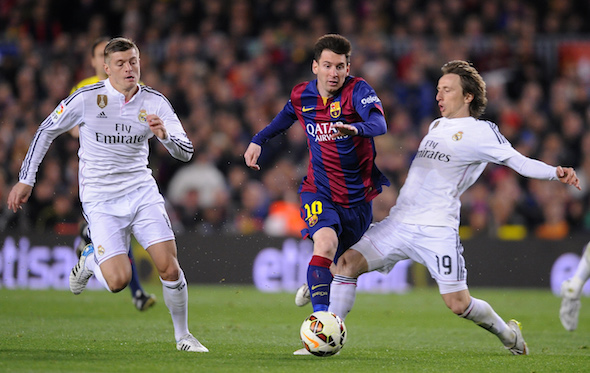soccer player: (332, 60, 584, 351), (7, 37, 202, 358), (242, 32, 391, 317)
soccerball: (301, 308, 349, 358)
